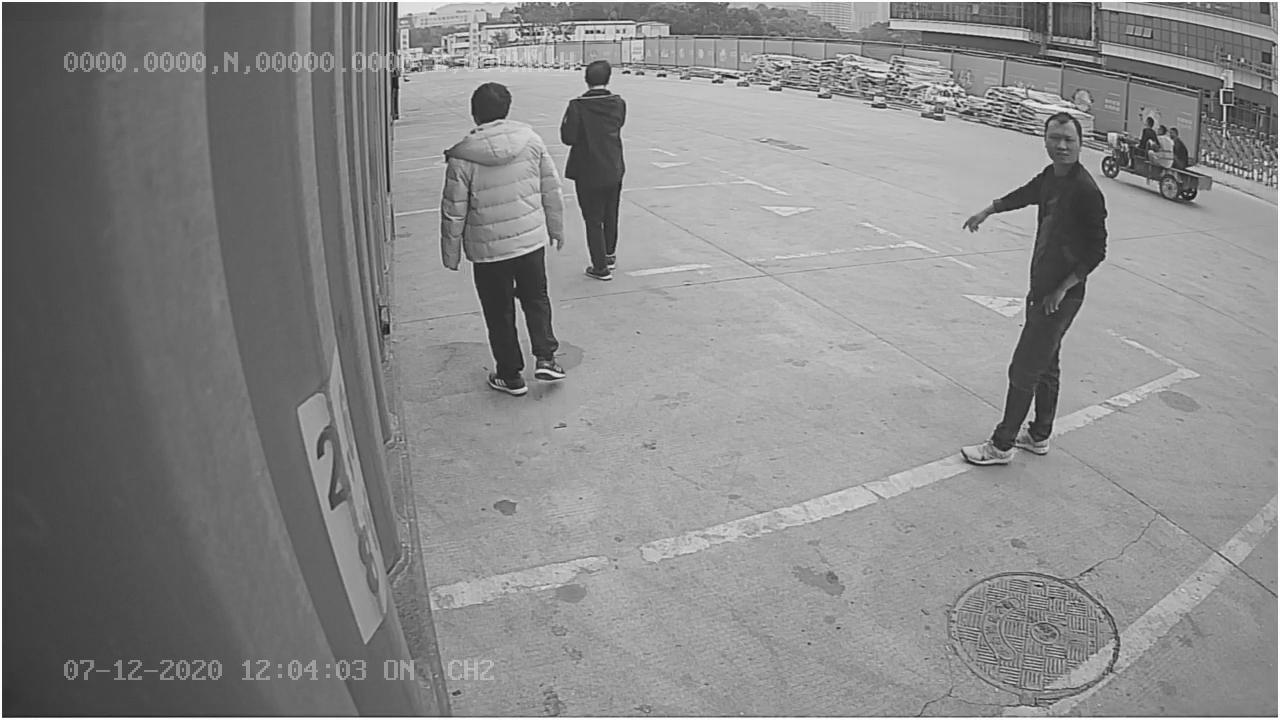person: (959, 106, 1111, 471), (437, 79, 566, 400)
